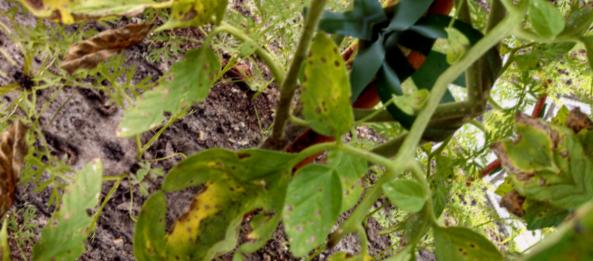Tomato Septoria leaf spot: (109, 28, 231, 162), (267, 30, 385, 150), (251, 148, 366, 261), (22, 0, 161, 71), (127, 0, 280, 60), (410, 208, 530, 261), (298, 236, 416, 261), (348, 243, 462, 261)
